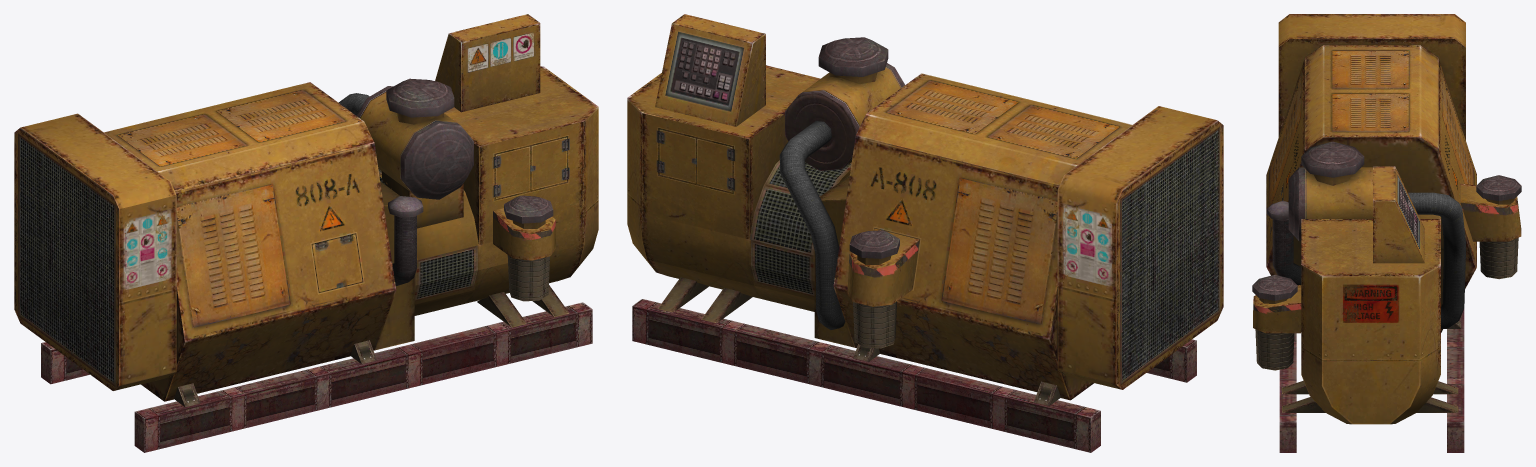
Rendered from electric_energy_plant_level_beginer.glb.
3 renders of one model, left to right at view 1: azimuth 30°, elevation 25°; view 2: azimuth 150°, elevation 25°; view 3: azimuth 270°, elevation 25°, orthographic. The views are drawn at different scales.
Visible parts, largest first — view 1: Object_2; view 2: Object_2; view 3: Object_2.
Part boxes in pixels (x1,y1,x2,y2): Object_2: [14, 14, 598, 452]; Object_2: [627, 14, 1223, 452]; Object_2: [1252, 14, 1521, 452].
Bounding box in the file's own units: 2.06 × 1.1 × 1.06.
1 material, 1 textured.
